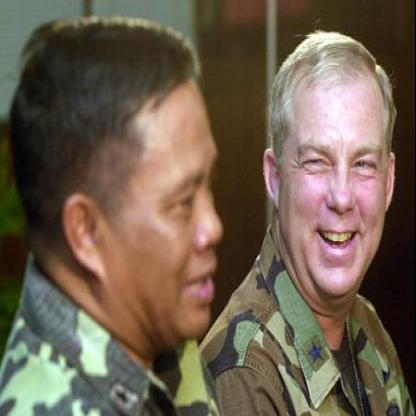face: (96, 39, 243, 354), (280, 39, 392, 303)
